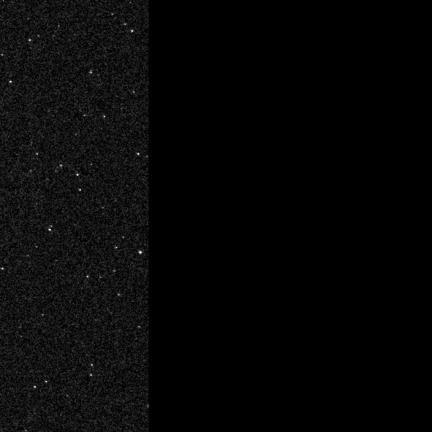blob: (139, 251, 143, 255), (137, 153, 140, 156)
